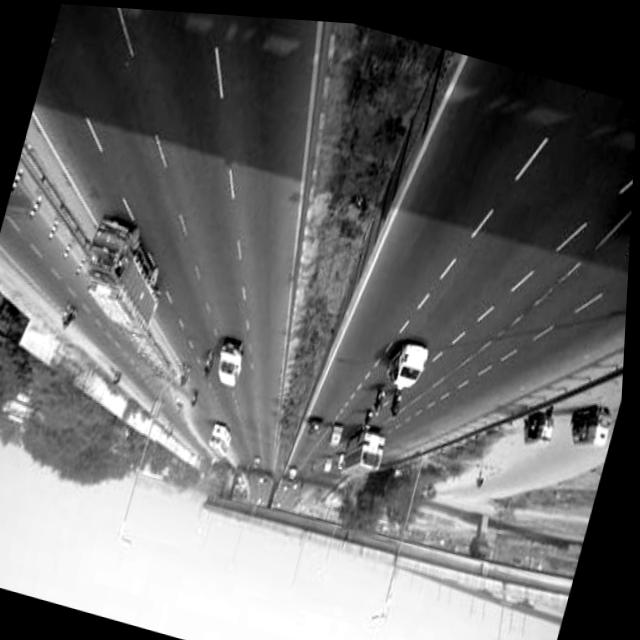cleat: (0, 43, 615, 640)
